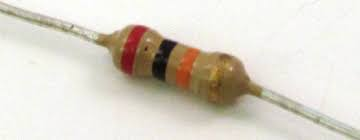resistor: (80, 15, 270, 114)
